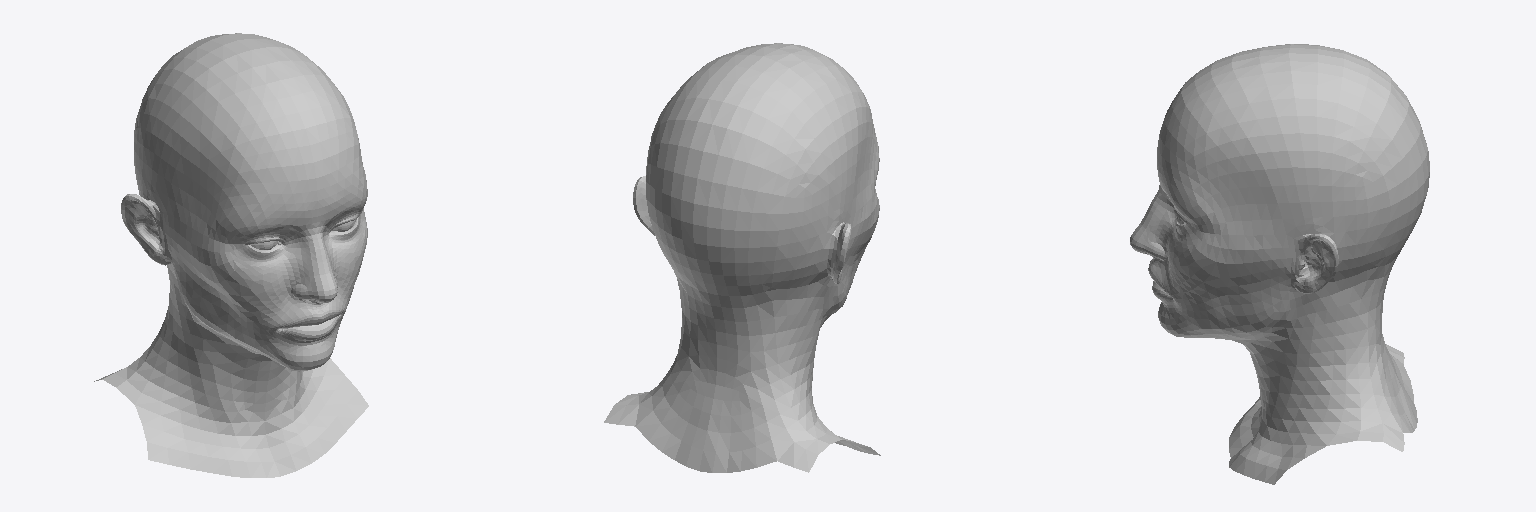
Rendered from anna.obj.
3 renders of one model, left to right at view 1: azimuth 30°, elevation 25°; view 2: azimuth 150°, elevation 25°; view 3: azimuth 270°, elevation 25°, orthographic.
Parts seen in each view (by area): view 1: Anna_Anna_Head; view 2: Anna_Anna_Head; view 3: Anna_Anna_Head.
Boxes of the visible parts, box(x1,y1,x2,y2) form: Anna_Anna_Head: box(94, 33, 368, 477); Anna_Anna_Head: box(604, 43, 880, 472); Anna_Anna_Head: box(1130, 44, 1429, 484).
Size of the model in its own units: 0.2776 by 0.4865 by 0.3268.